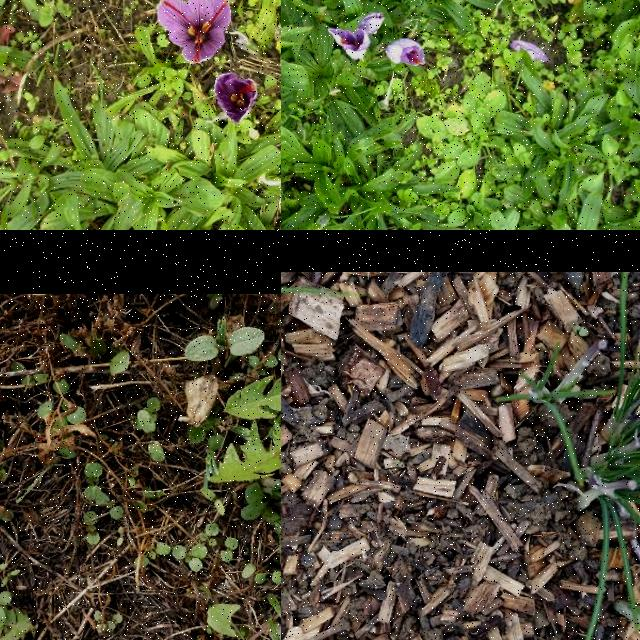flower: (157, 0, 230, 63), (215, 75, 257, 125), (328, 27, 368, 59), (387, 38, 425, 68), (360, 12, 386, 32)
